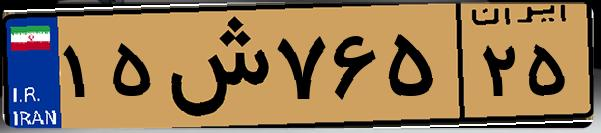1: (57, 26, 110, 100)
2: (475, 38, 525, 113)
5: (385, 28, 445, 110), (525, 38, 570, 115), (110, 28, 158, 98)
6: (330, 28, 385, 110)
7: (270, 28, 330, 110)
ش: (158, 12, 270, 120)
